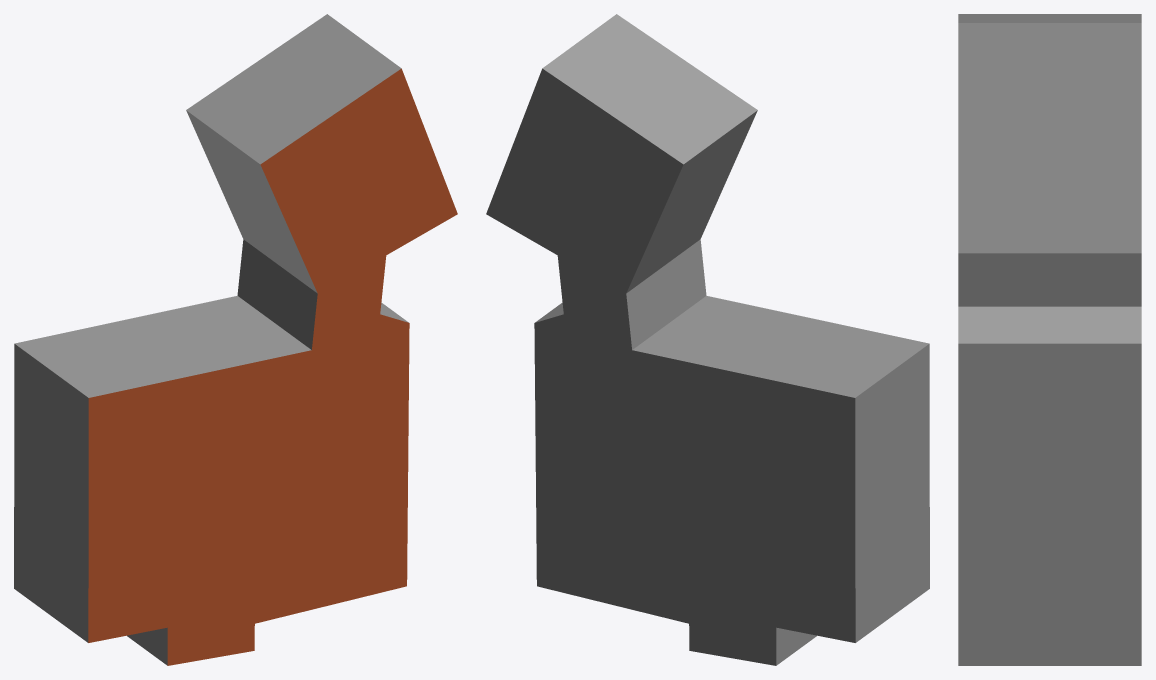
The model's file is construction_3990_assumed_A_Casa_h6m.obj.
3 views of the same model, side by side, from view 1: azimuth 30°, elevation 25°; view 2: azimuth 150°, elevation 25°; view 3: azimuth 270°, elevation 25° (orthographic). The views are drawn at different scales.
Visible parts, largest first — view 1: construction_3990_assumed_A_Casa; view 2: construction_3990_assumed_A_Casa; view 3: construction_3990_assumed_A_Casa.
Boxes of the visible parts, x1,y1,x2,y2 form: construction_3990_assumed_A_Casa: (14, 14, 457, 665); construction_3990_assumed_A_Casa: (486, 14, 929, 665); construction_3990_assumed_A_Casa: (958, 14, 1141, 665).
Size of the model in its own units: 17.21 by 24.33 by 6.
